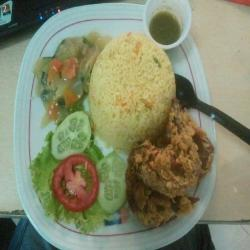rice: (81, 31, 178, 158)
salad: (31, 139, 117, 236)
